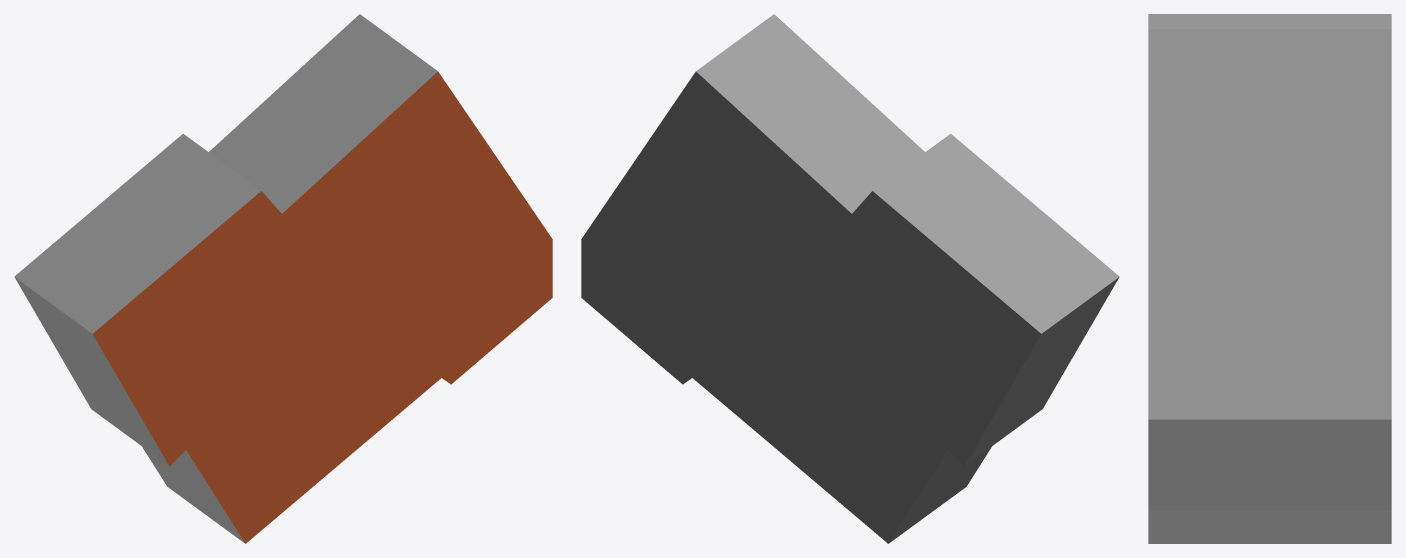
Rendered from construction_0732_assumed_A_Casa_h6m.obj.
3 renders of one model, left to right at view 1: azimuth 30°, elevation 25°; view 2: azimuth 150°, elevation 25°; view 3: azimuth 270°, elevation 25°, orthographic. The views are drawn at different scales.
Parts seen in each view (by area): view 1: construction_0732_assumed_A_Casa; view 2: construction_0732_assumed_A_Casa; view 3: construction_0732_assumed_A_Casa.
Boxes of the visible parts, x1,y1,x2,y2 form: construction_0732_assumed_A_Casa: [14, 14, 552, 543]; construction_0732_assumed_A_Casa: [581, 14, 1119, 543]; construction_0732_assumed_A_Casa: [1148, 14, 1391, 543].
Size of the model in its own units: 20.36 by 18 by 6.
